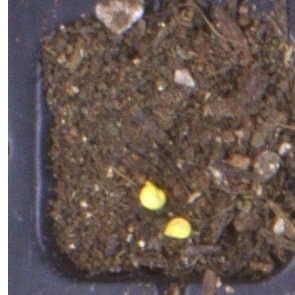chilli seed: (138, 180, 167, 210), (163, 217, 192, 240)
